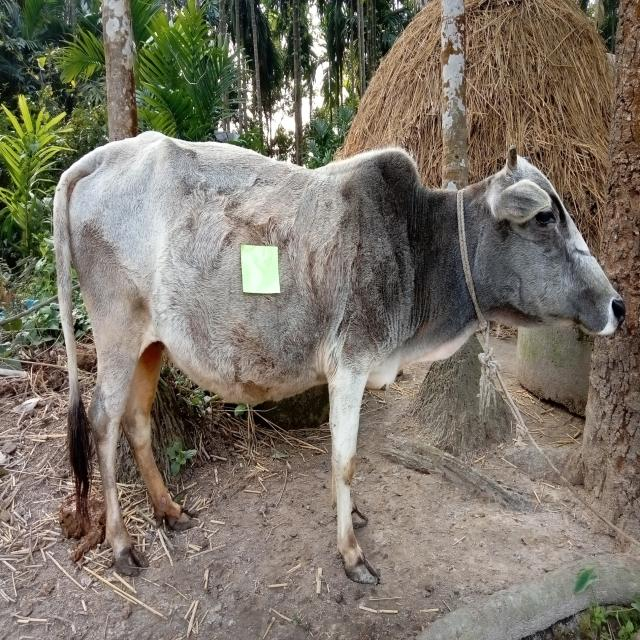badan_sapi: (76, 160, 373, 389)
sapi: (49, 131, 629, 601)
